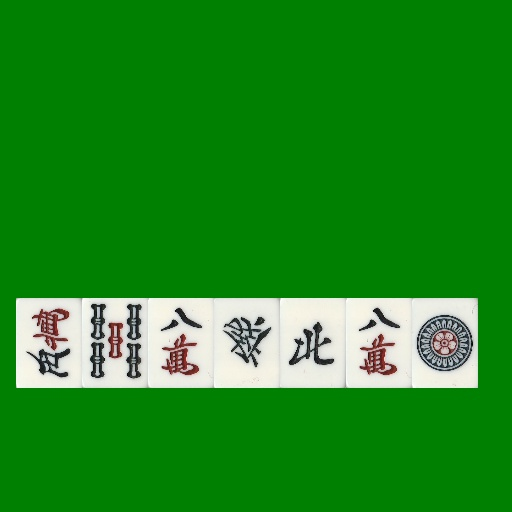1p: (412, 298, 478, 388)
5m: (16, 298, 82, 388)
5s: (82, 298, 148, 388)
8m: (148, 298, 214, 388), (346, 298, 412, 388)
hatsu: (214, 298, 280, 388)
north: (280, 298, 346, 388)
